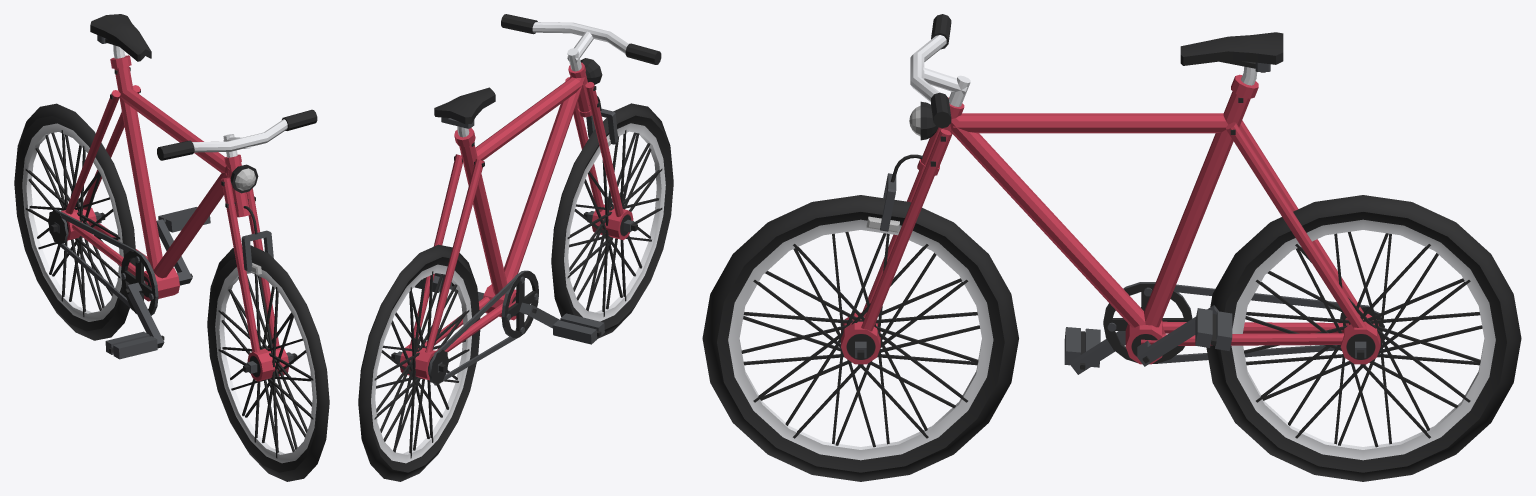
3 renders of one model, left to right at view 1: azimuth 30°, elevation 25°; view 2: azimuth 150°, elevation 25°; view 3: azimuth 270°, elevation 25°, orthographic. The views are drawn at different scales.
Visible parts, largest first — view 1: Bike2; view 2: Bike2; view 3: Bike2.
Boxes of the visible parts, bbox=[...] form: Bike2: bbox=[14, 14, 329, 481]; Bike2: bbox=[358, 14, 673, 481]; Bike2: bbox=[702, 14, 1521, 481].
Size of the model in its own units: 462 by 982 by 1639.
1 material, 1 textured.
